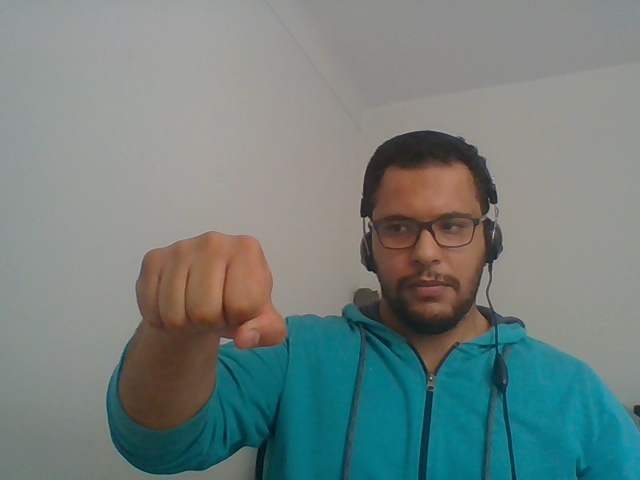yes: (117, 210, 297, 382)
